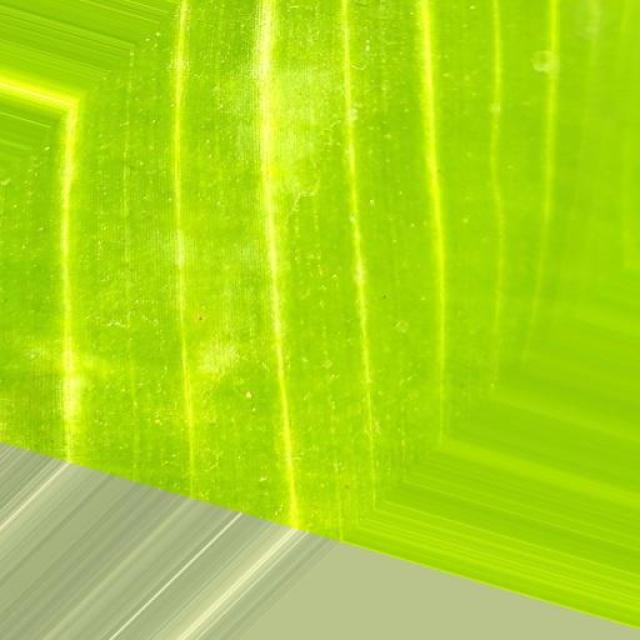Black_leaf_spot: (19, 13, 640, 565)
